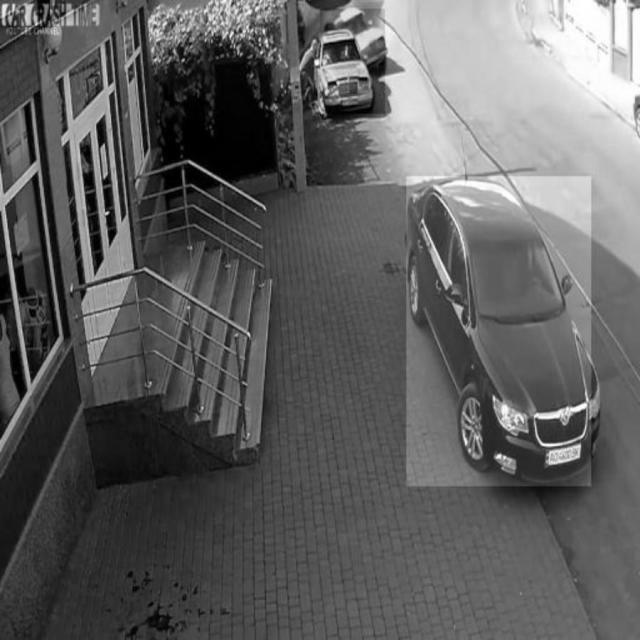accident: (320, 9, 386, 113)
vehicle: (406, 177, 591, 487)
